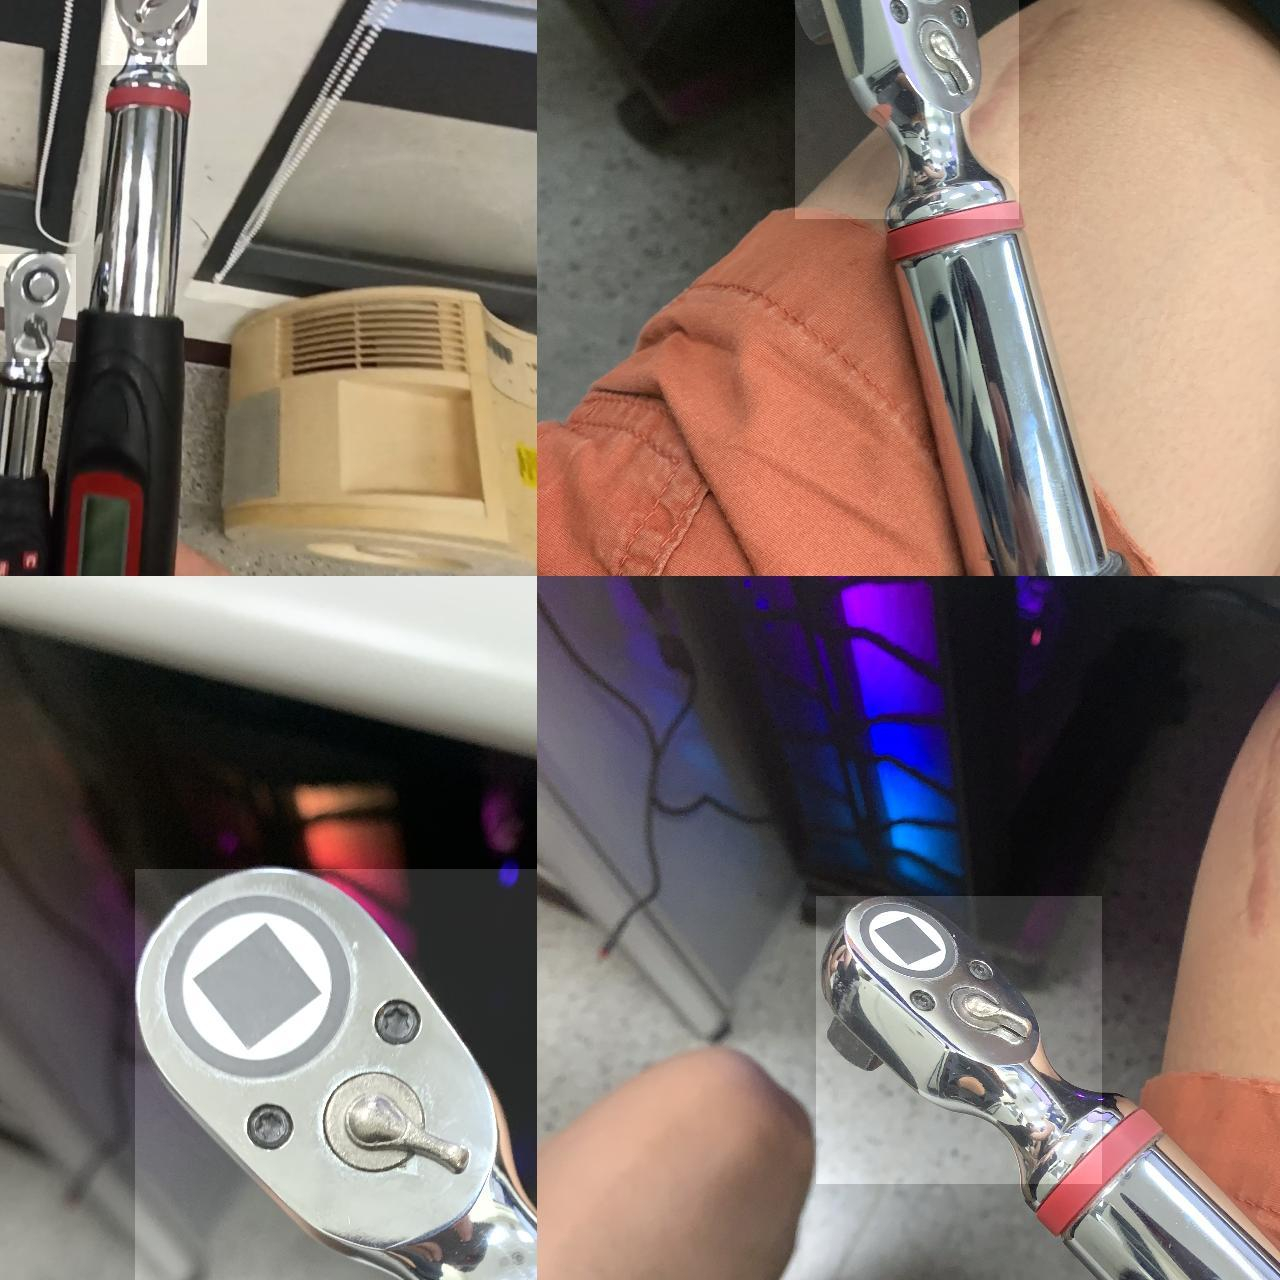Tool: (135, 869, 537, 1280), (816, 896, 1102, 1184), (795, 0, 1019, 219), (0, 254, 76, 362), (101, 0, 207, 64)
